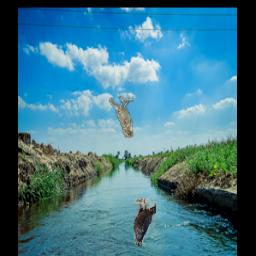Crow: (134, 199, 156, 247)
Sparrow: (110, 95, 134, 138)
